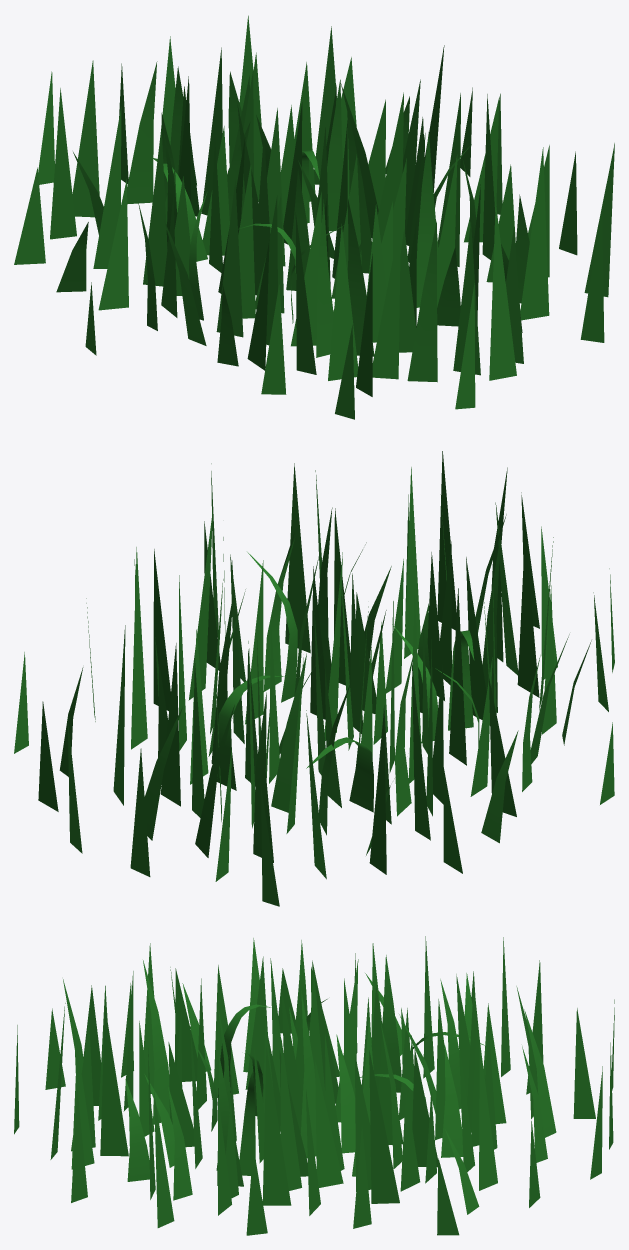
File: grass_patches_set_ellipse_mini.fbx
The picture shows the model from 3 angles, top to bottom: view 1: azimuth 30°, elevation 25°; view 2: azimuth 150°, elevation 25°; view 3: azimuth 270°, elevation 25°; orthographic projection. The views are drawn at different scales.
Visible parts, largest first — view 1: grass_ground_paint_A292, grass_ground_paint_B143, grass_ground_paint_A550, grass_ground_paint_A617, grass_ground_paint_A192, grass_ground_paint_B244, grass_ground_paint_A487, grass_ground_paint_A520, grass_ground_paint_A454, grass_ground_paint_A521, grass_ground_paint_A323, grass_ground_paint_C54 (+78 smaller); view 2: grass_ground_paint_A292, grass_ground_paint_A318, grass_ground_paint_A192, grass_ground_paint_B218, grass_ground_paint_A420, grass_ground_paint_A393, grass_ground_paint_A550, grass_ground_paint_A252, grass_ground_paint_A520, grass_ground_paint_B244, grass_ground_paint_E46, grass_ground_paint_A521 (+61 smaller); view 3: grass_ground_paint_A418, grass_ground_paint_A318, grass_ground_paint_A393, grass_ground_paint_A452, grass_ground_paint_A287, grass_ground_paint_A382, grass_ground_paint_C42, grass_ground_paint_B217, grass_ground_paint_B117, grass_ground_paint_C85, grass_ground_paint_A554, grass_ground_paint_B322 (+71 smaller).
Part boxes in pixels (<box>): grass_ground_paint_A292: <box>520,147,549,320</box>; grass_ground_paint_B143: <box>407,221,437,382</box>; grass_ground_paint_A550: <box>489,202,516,380</box>; grass_ground_paint_A617: <box>372,218,400,379</box>; grass_ground_paint_A192: <box>328,224,358,380</box>; grass_ground_paint_B244: <box>127,61,157,204</box>; grass_ground_paint_A487: <box>72,60,99,217</box>; grass_ground_paint_A520: <box>50,88,76,239</box>; grass_ground_paint_A454: <box>98,179,128,310</box>; grass_ground_paint_A521: <box>93,107,121,268</box>; grass_ground_paint_A323: <box>143,126,167,286</box>; grass_ground_paint_C54: <box>416,132,438,307</box>; grass_ground_paint_A292: <box>285,463,310,653</box>; grass_ground_paint_A318: <box>131,547,147,749</box>; grass_ground_paint_A192: <box>517,532,539,697</box>; grass_ground_paint_B218: <box>271,653,306,812</box>; grass_ground_paint_A420: <box>449,588,466,765</box>; grass_ground_paint_A393: <box>404,467,420,658</box>; grass_ground_paint_A550: <box>437,451,456,630</box>; grass_ground_paint_A252: <box>160,643,180,806</box>; grass_ground_paint_A520: <box>369,710,386,874</box>; grass_ground_paint_B244: <box>253,692,273,862</box>; grass_ground_paint_E46: <box>306,737,373,812</box>; grass_ground_paint_A521: <box>412,662,430,840</box>; grass_ground_paint_A418: <box>262,1046,291,1205</box>; grass_ground_paint_A318: <box>369,1050,399,1203</box>; grass_ground_paint_A393: <box>100,1006,128,1156</box>; grass_ground_paint_A452: <box>315,1061,343,1187</box>; grass_ground_paint_A287: <box>280,1038,301,1190</box>; grass_ground_paint_A382: <box>479,1043,497,1190</box>; grass_ground_paint_C42: <box>143,960,169,1124</box>; grass_ground_paint_B217: <box>300,991,316,1158</box>; grass_ground_paint_B117: <box>441,1044,463,1157</box>; grass_ground_paint_C85: <box>125,1079,149,1181</box>; grass_ground_paint_A554: <box>412,1049,438,1167</box>; grass_ground_paint_B322: <box>336,1034,355,1153</box>.
Bounding box in the file's own units: 138 × 51.06 × 172.
